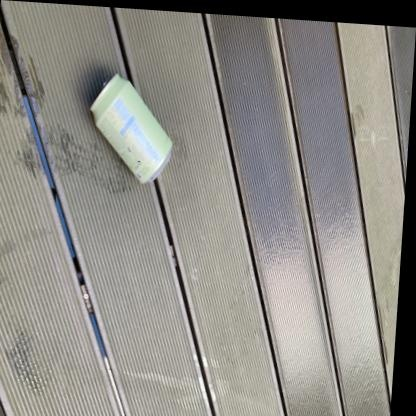trash: (90, 74, 172, 182)
